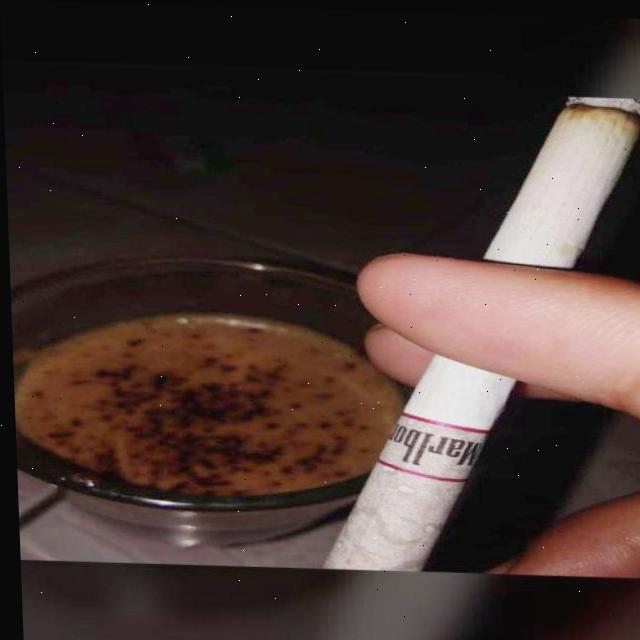cigarette: (303, 85, 640, 577)
